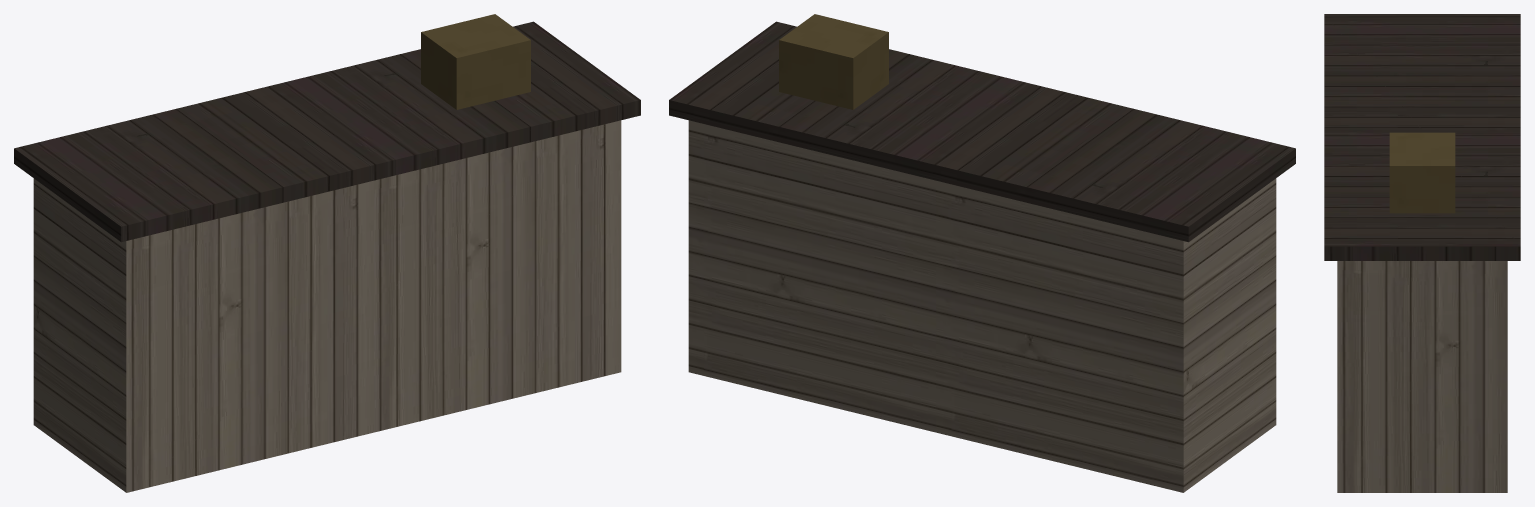
File: counter_01.glb
The picture shows the model from 3 angles, left to right: view 1: azimuth 30°, elevation 25°; view 2: azimuth 150°, elevation 25°; view 3: azimuth 270°, elevation 25°; orthographic projection. The views are drawn at different scales.
Visible parts, largest first — view 1: counter_01; view 2: counter_01; view 3: counter_01.
Part boxes in pixels (left/top/right/bottom): counter_01: left=14, top=14, right=640, bottom=492; counter_01: left=669, top=14, right=1295, bottom=492; counter_01: left=1324, top=14, right=1520, bottom=492.
Size of the model in its own units: 2.1 by 1.26 by 0.7499.
3 materials, 3 textured.
